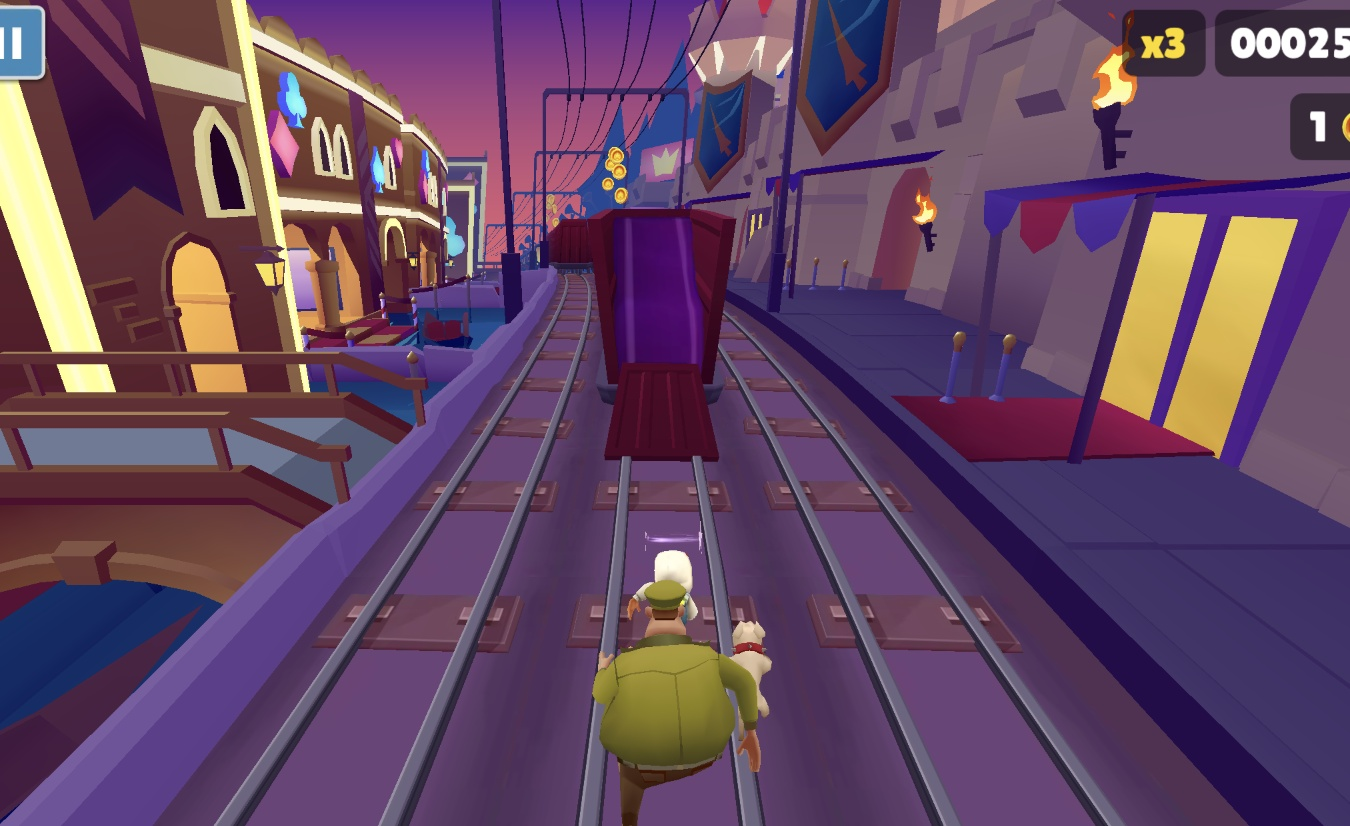train: (586, 208, 744, 462), (550, 217, 600, 275)
